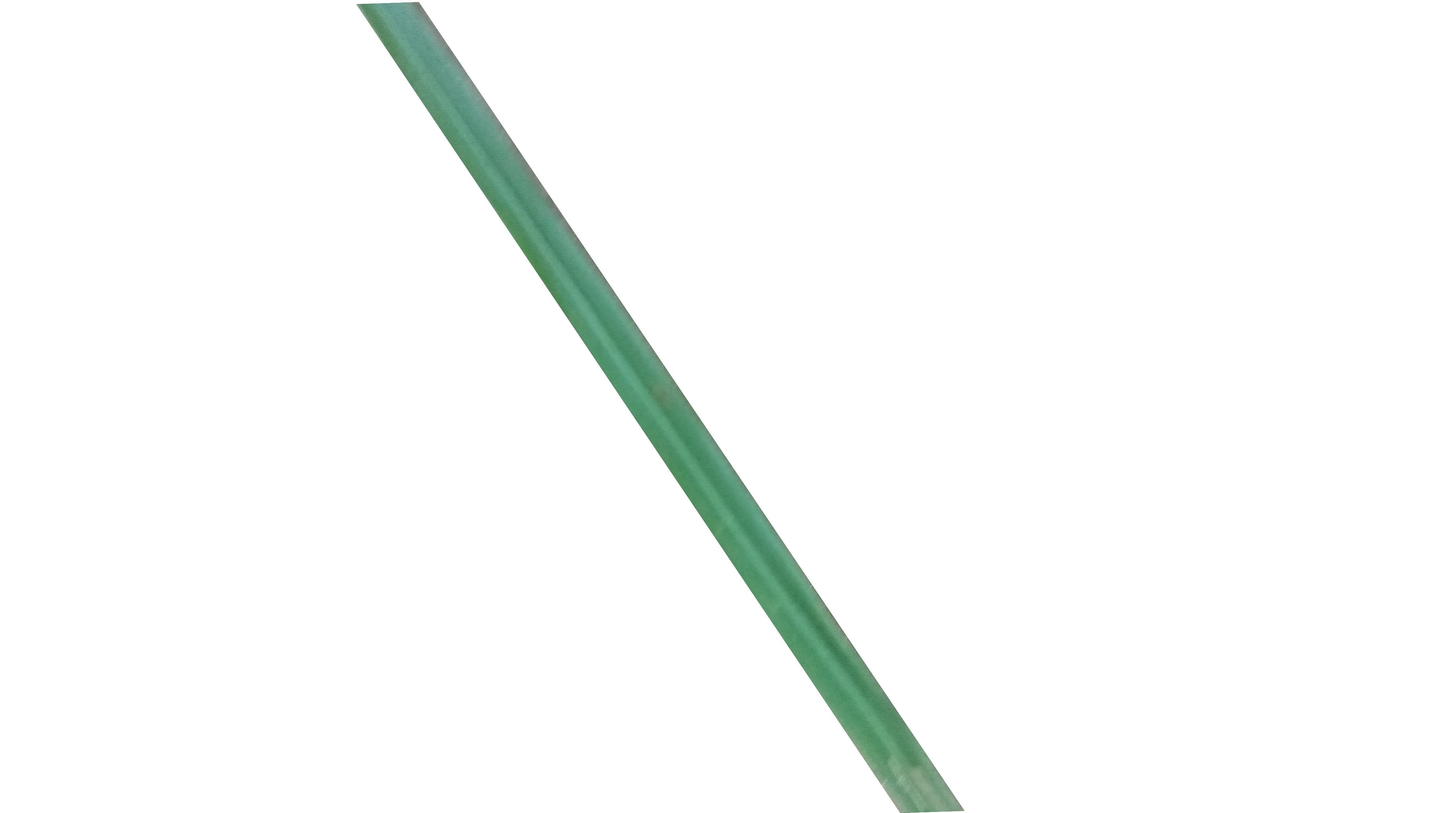Blight: (855, 710, 987, 813)
